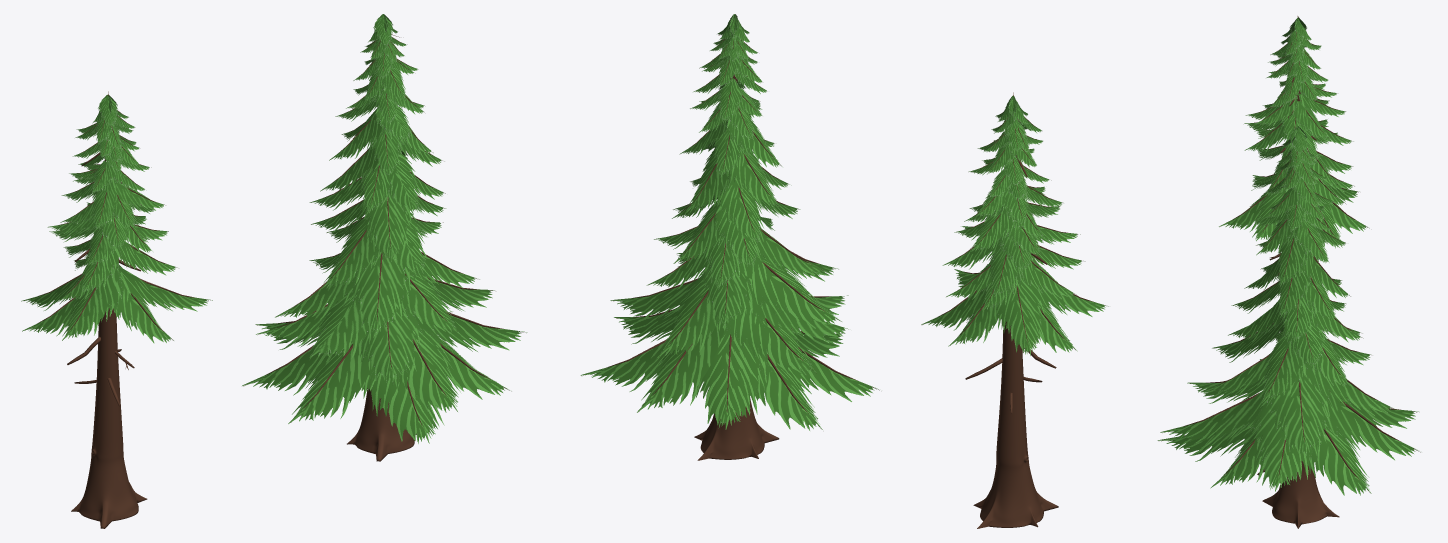
File: PineTree_finalModels.fbx
The picture shows the model from 3 angles, left to right: view 1: azimuth 30°, elevation 25°; view 2: azimuth 150°, elevation 25°; view 3: azimuth 270°, elevation 25°; orthographic projection. The views are drawn at different scales.
Parts seen in each view (by area): view 1: Trunk.001, Cube.010, pineNeedles02.008, pineNeedles02.001, Cube.012, pineNeedles02.013, pineNeedles02, Trunk, pineNeedles02.044, Cube.003, Cube.001, Cube.005 (+26 smaller); view 2: Trunk.001, pineNeedles02.010, Cube.009, Cube.013, pineNeedles02.017, Trunk, Cube.011, pineNeedles02.043, pineNeedles02.012, Cube.015, Cube.010, pineNeedles02.009 (+25 smaller); view 3: pineNeedles02.011, pineNeedles02.006, pineNeedles02.009, Trunk, Cube.013, pineNeedles02.001, Cube.004, Cube.011, pineNeedles02.013, Cube.007, Cube.008, Cube.029 (+29 smaller).
Part boxes in pixels (x1=…): Trunk.001: x1=71, y1=91, x2=147, y2=528; Cube.010: x1=288, y1=338, x2=382, y2=423; pineNeedles02.008: x1=349, y1=252, x2=415, y2=335; pineNeedles02.001: x1=364, y1=329, x2=460, y2=412; Cube.012: x1=360, y1=301, x2=423, y2=382; pineNeedles02.013: x1=361, y1=371, x2=444, y2=443; pineNeedles02: x1=308, y1=291, x2=375, y2=358; Trunk: x1=347, y1=86, x2=416, y2=461; pineNeedles02.044: x1=62, y1=265, x2=123, y2=340; Cube.003: x1=359, y1=191, x2=413, y2=261; Cube.001: x1=319, y1=215, x2=384, y2=290; Cube.005: x1=400, y1=269, x2=458, y2=333; Trunk.001: x1=973, y1=92, x2=1058, y2=528; pineNeedles02.010: x1=693, y1=324, x2=771, y2=429; Cube.009: x1=736, y1=256, x2=841, y2=328; Cube.013: x1=637, y1=321, x2=742, y2=412; pineNeedles02.017: x1=726, y1=297, x2=816, y2=375; Trunk: x1=694, y1=74, x2=779, y2=460; Cube.011: x1=657, y1=270, x2=741, y2=358; pineNeedles02.043: x1=995, y1=276, x2=1045, y2=355; pineNeedles02.012: x1=748, y1=350, x2=822, y2=430; Cube.015: x1=714, y1=175, x2=763, y2=241; Cube.010: x1=788, y1=347, x2=879, y2=401; pineNeedles02.009: x1=580, y1=339, x2=668, y2=391; pineNeedles02.011: x1=1266, y1=366, x2=1332, y2=455; pineNeedles02.006: x1=1250, y1=397, x2=1328, y2=491; pineNeedles02.009: x1=1307, y1=422, x2=1371, y2=495; Trunk: x1=1262, y1=461, x2=1339, y2=528; Cube.013: x1=1319, y1=390, x2=1420, y2=460; pineNeedles02.001: x1=1160, y1=392, x2=1267, y2=447; Cube.004: x1=1260, y1=332, x2=1308, y2=403; Cube.011: x1=1303, y1=363, x2=1393, y2=415; pineNeedles02.013: x1=1157, y1=422, x2=1261, y2=461; Cube.007: x1=1210, y1=432, x2=1267, y2=488; Cube.008: x1=1282, y1=314, x2=1325, y2=366; Cube.029: x1=1277, y1=233, x2=1310, y2=286.
Size of the model in its own units: 2358 by 1934 by 1306.
